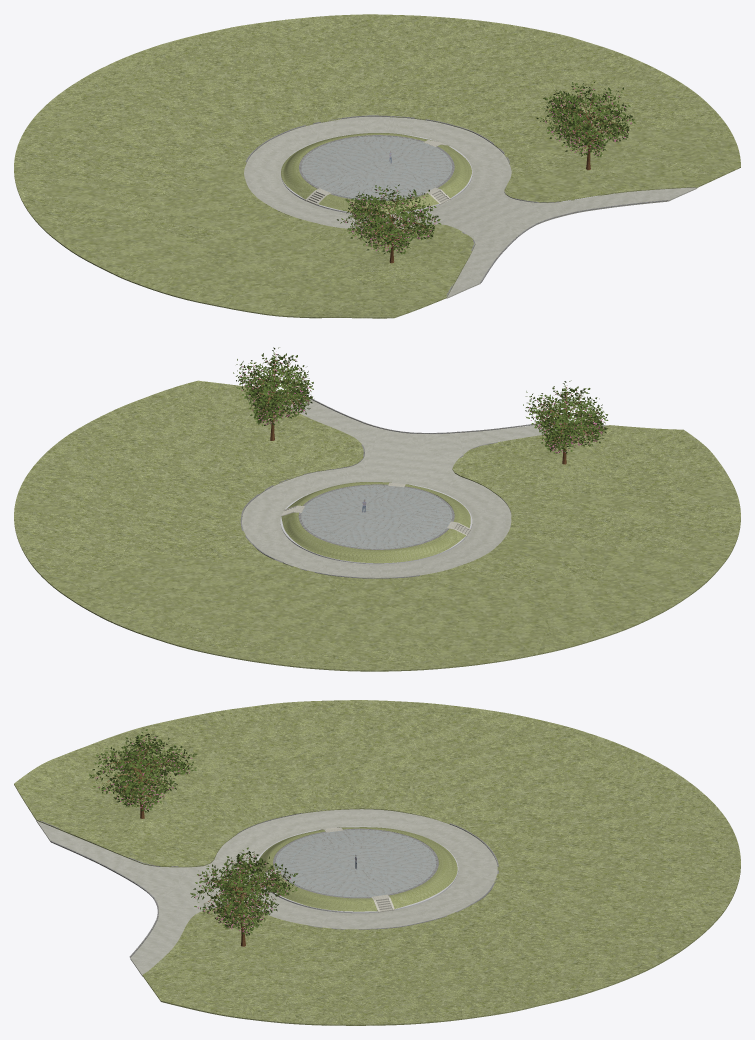
3 renders of one model, top to bottom at view 1: azimuth 30°, elevation 25°; view 2: azimuth 150°, elevation 25°; view 3: azimuth 270°, elevation 25°, orthographic. The views are drawn at different scales.
Visible parts, largest first — view 1: 3DGeom-3986, 3DGeom-10, 3DGeom-7993, 3DGeom-12, 3DGeom-7, stemslevel0, 3DGeom-3505, 3DGeom-1; view 2: 3DGeom-3986, 3DGeom-10, 3DGeom-12, 3DGeom-7993, 3DGeom-7, stemslevel0, 3DGeom-3505, 3DGeom-6; view 3: 3DGeom-3986, 3DGeom-10, 3DGeom-7993, 3DGeom-12, 3DGeom-7, stemslevel0, 3DGeom-3505, 3DGeom-6.
Boxes of the visible parts, left/top/right/bottom form: 3DGeom-3986: left=14, top=14, right=740, bottom=318; 3DGeom-10: left=244, top=116, right=697, bottom=298; 3DGeom-7993: left=337, top=81, right=635, bottom=254; 3DGeom-12: left=301, top=136, right=452, bottom=200; 3DGeom-7: left=245, top=115, right=668, bottom=295; stemslevel0: left=345, top=88, right=625, bottom=263; 3DGeom-3505: left=345, top=88, right=631, bottom=251; 3DGeom-1: left=305, top=140, right=450, bottom=205; 3DGeom-3986: left=14, top=380, right=740, bottom=671; 3DGeom-10: left=242, top=390, right=606, bottom=577; 3DGeom-12: left=301, top=485, right=452, bottom=548; 3DGeom-7993: left=233, top=347, right=608, bottom=454; 3DGeom-7: left=240, top=397, right=605, bottom=578; stemslevel0: left=245, top=353, right=599, bottom=464; 3DGeom-3505: left=240, top=354, right=604, bottom=452; 3DGeom-6: left=280, top=484, right=472, bottom=564; 3DGeom-3986: left=14, top=700, right=740, bottom=1025; 3DGeom-10: left=36, top=809, right=497, bottom=976; 3DGeom-7993: left=89, top=729, right=297, bottom=935; 3DGeom-12: left=275, top=829, right=436, bottom=897; 3DGeom-7: left=39, top=809, right=498, bottom=957; stemslevel0: left=93, top=736, right=287, bottom=946; 3DGeom-3505: left=95, top=736, right=290, bottom=932; 3DGeom-6: left=255, top=826, right=458, bottom=913.
Size of the model in its own units: 88 by 11.64 by 83.07.
17 materials, 17 textured.
